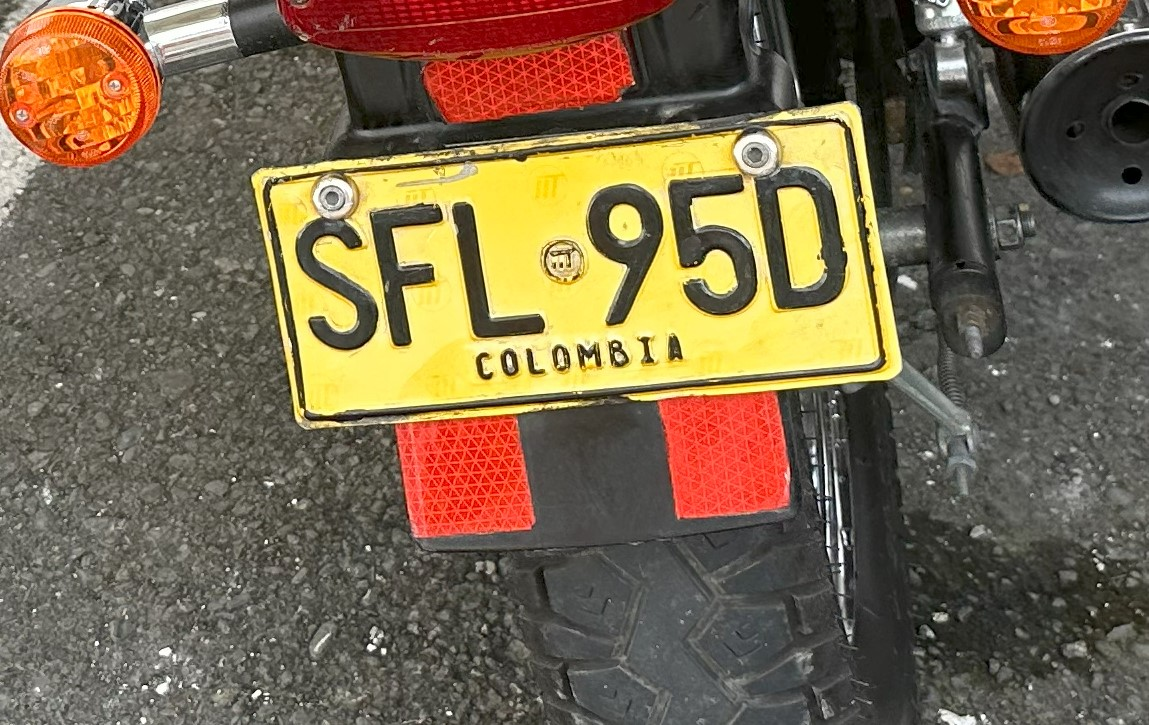number plate: (253, 102, 899, 425), (0, 7, 160, 166)
